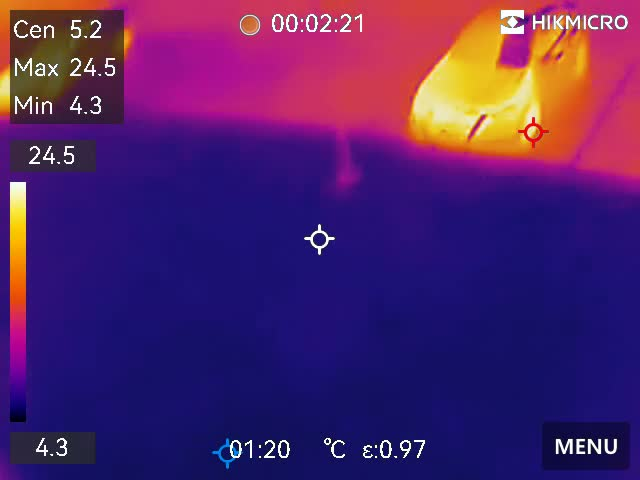smallCar: (400, 3, 592, 154)
